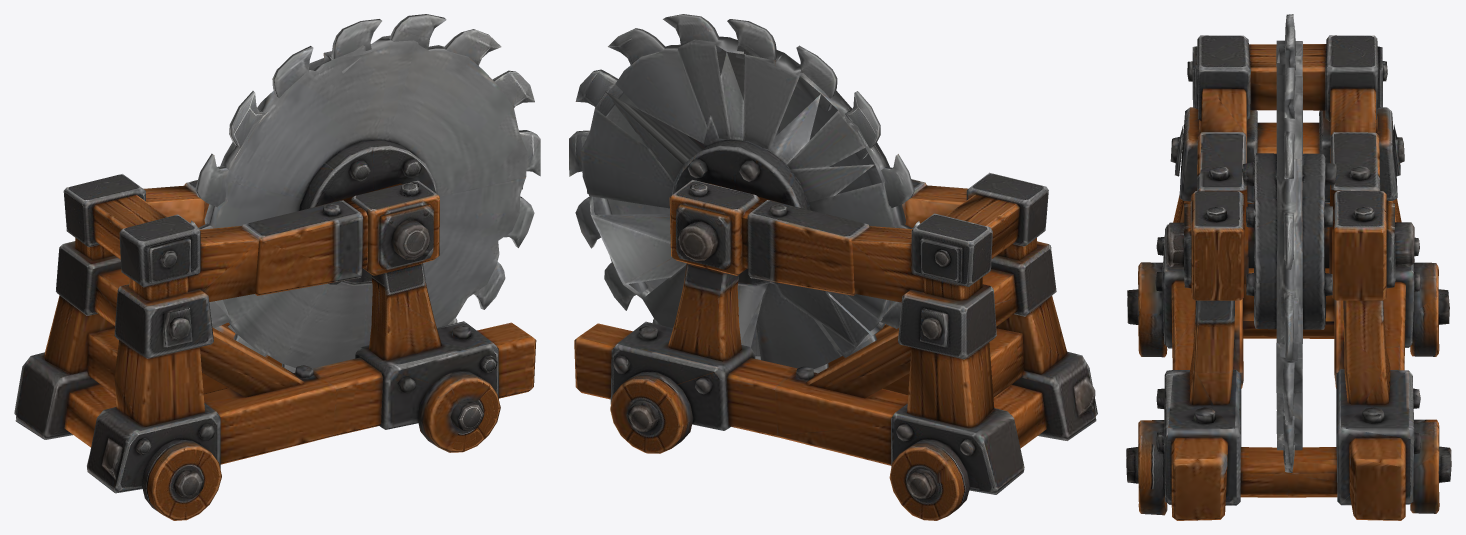
The model's file is aserradero_sierra.glb.
3 renders of one model, left to right at view 1: azimuth 30°, elevation 25°; view 2: azimuth 150°, elevation 25°; view 3: azimuth 270°, elevation 25°, orthographic. The views are drawn at different scales.
Parts seen in each view (by area): view 1: sierra; view 2: sierra; view 3: sierra.
Part boxes in pixels (bbox=[...]): sierra: bbox=[14, 14, 540, 520]; sierra: bbox=[569, 14, 1097, 520]; sierra: bbox=[1126, 14, 1451, 520].
Size of the model in its own units: 0.57 by 0.4518 by 0.2918.
Materials: 1 (1 with a texture image).
